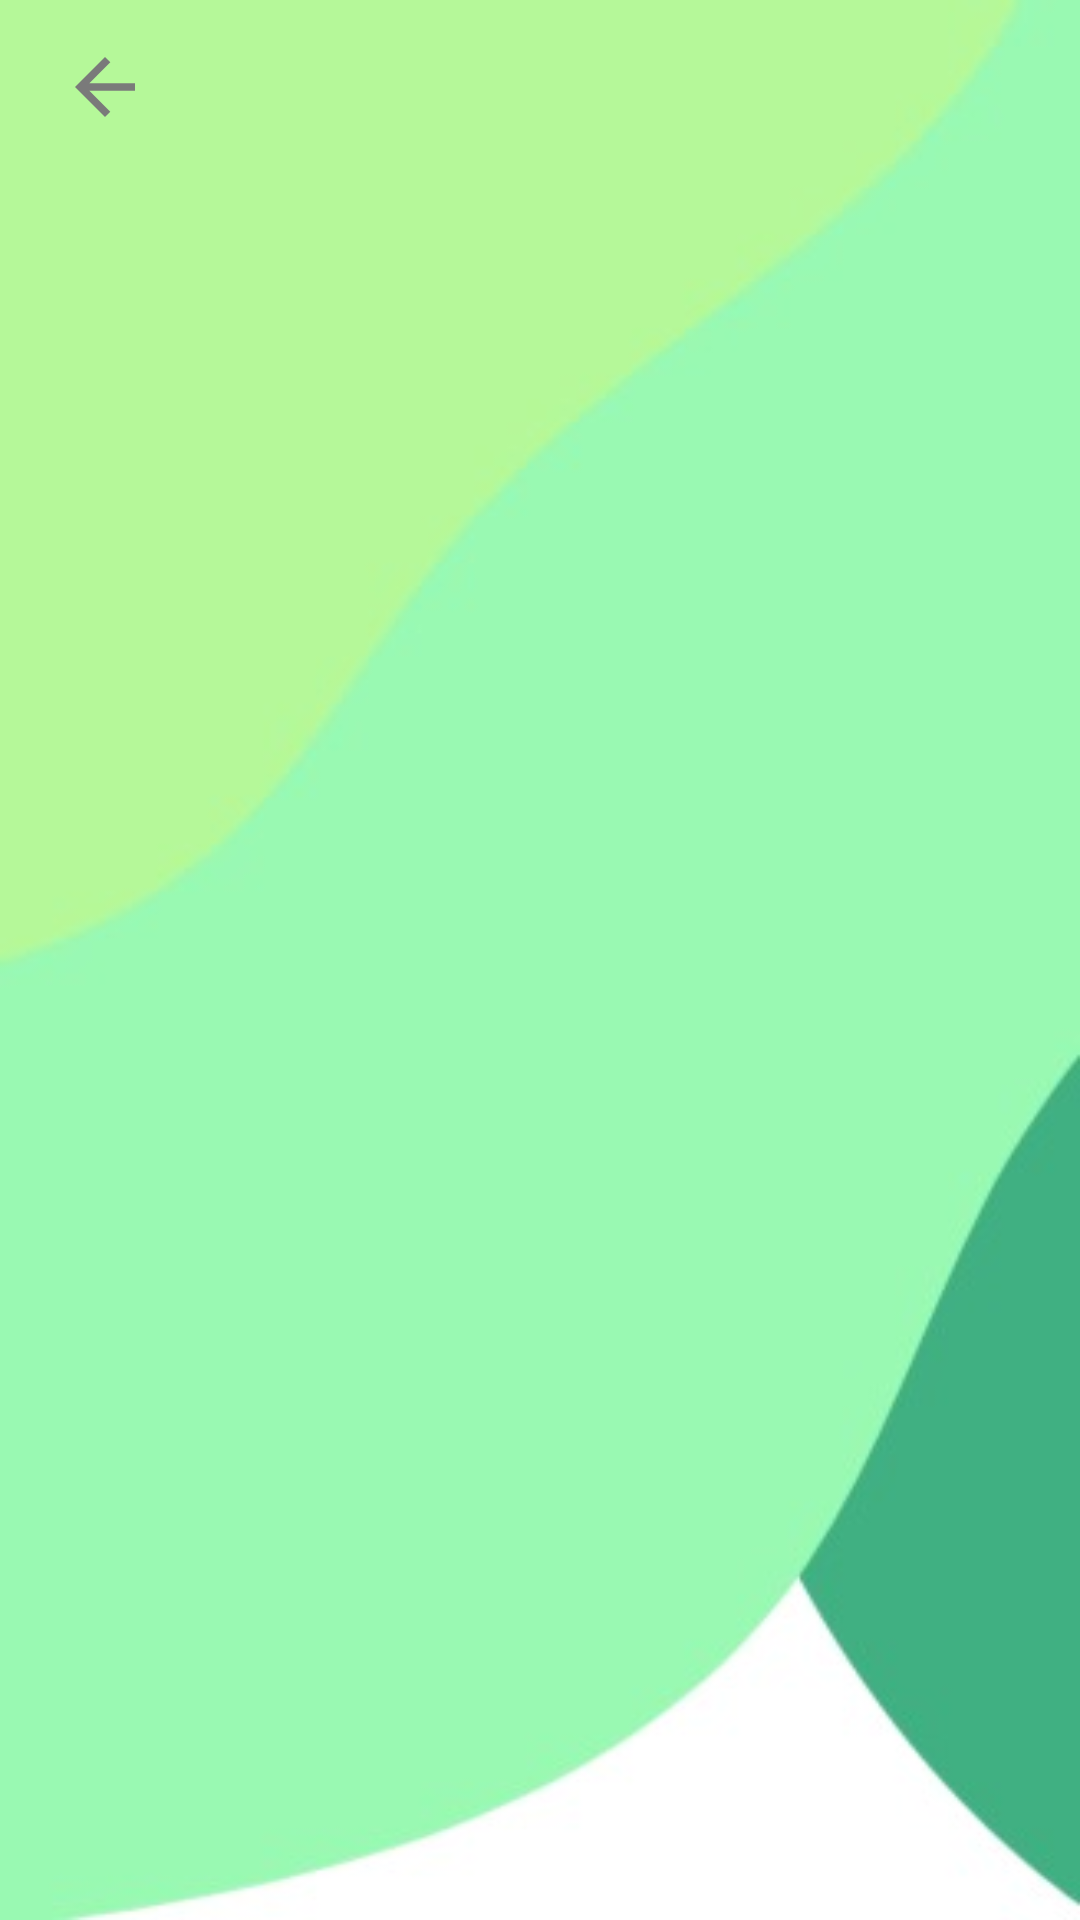

Screen size 1080px x 1920px. Icon name, then its center in pixels as (x=x, y=y):
arrow back: (x=105, y=87)
